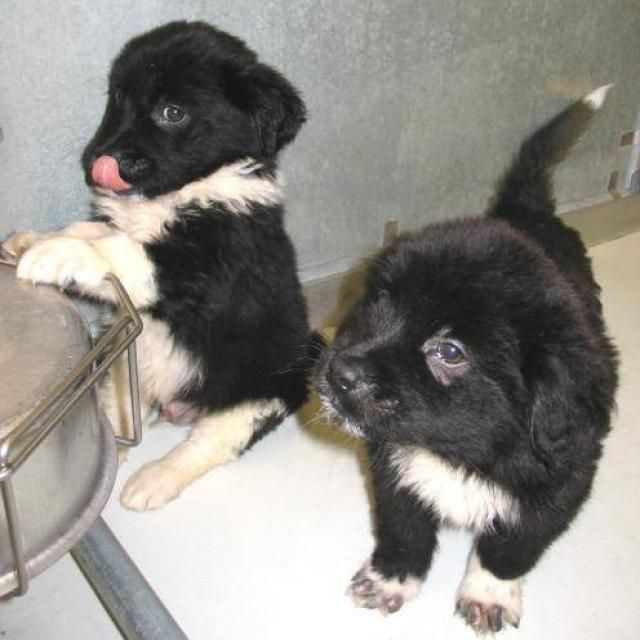dog: (304, 81, 622, 639), (0, 16, 319, 512)
